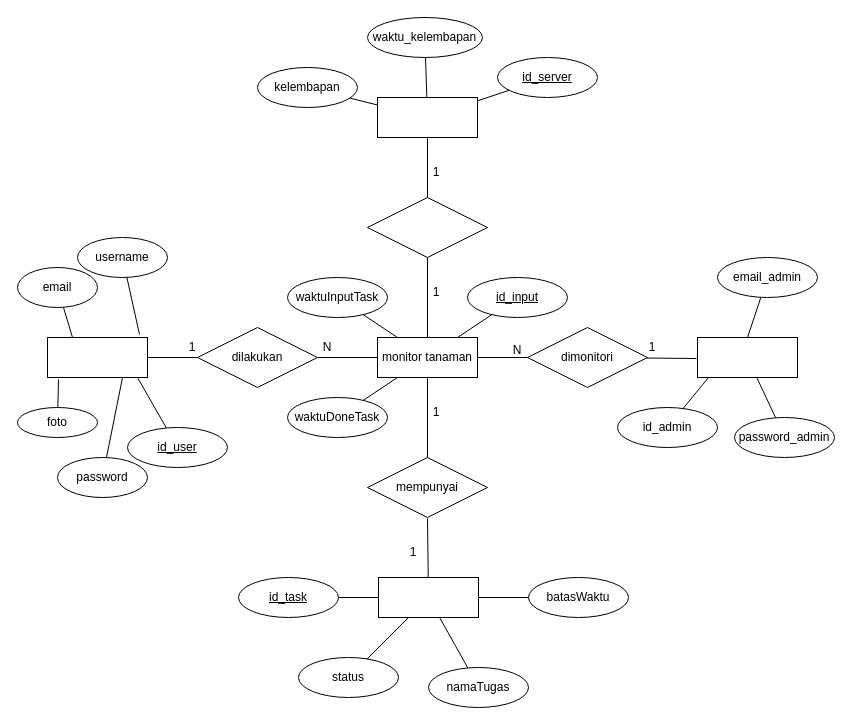
Some shapes in this 852 by 725 pixel diagram are drawn without their labels. The centre of each missing label's shape, as x and y in pixels:
admin: pixel 747 357
control: pixel 427 117
memberikan: pixel 427 227
task: pixel 428 597
user: pixel 97 357
